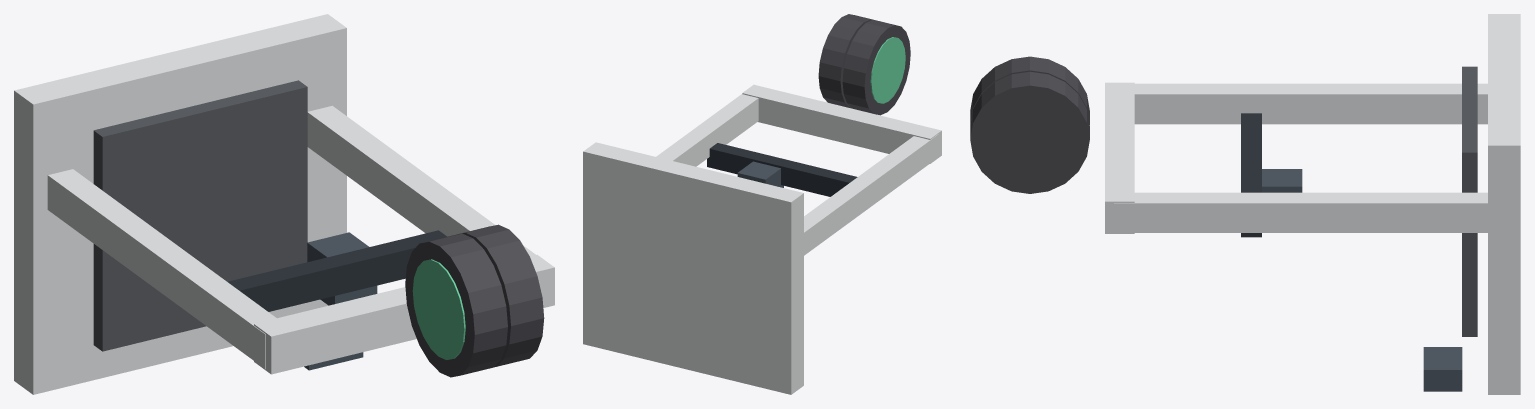
Rendered from printer-a1-style.glb.
3 views of the same model, side by side, from view 1: azimuth 30°, elevation 25°; view 2: azimuth 150°, elevation 25°; view 3: azimuth 270°, elevation 25° (orthographic). The views are drawn at different scales.
Parts seen in each view (by area): view 1: Base, Bed, PillarL, PillarR, TopBar, SpoolFlange1, XRail, SpoolFlange2, SpoolFilament, PrintHead; view 2: Base, TopBar, PillarL, SpoolFlange1, PillarR, XRail, SpoolFlange2, SpoolFilament, PrintHead; view 3: PillarR, PillarL, Base, SpoolFlange2, TopBar, Bed, SpoolFlange1, Screen, XRail, PrintHead.
Part boxes in pixels (x1=…): Base: x1=14, y1=14, x2=346, y2=394; Bed: x1=93, y1=80, x2=307, y2=351; PillarL: x1=47, y1=169, x2=276, y2=369; PillarR: x1=307, y1=105, x2=535, y2=256; TopBar: x1=254, y1=254, x2=554, y2=374; SpoolFlange1: x1=405, y1=233, x2=507, y2=377; XRail: x1=227, y1=230, x2=446, y2=311; SpoolFlange2: x1=457, y1=224, x2=544, y2=367; SpoolFilament: x1=412, y1=259, x2=465, y2=359; PrintHead: x1=307, y1=232, x2=377, y2=305; Base: x1=583, y1=142, x2=803, y2=394; TopBar: x1=742, y1=84, x2=941, y2=163; PillarL: x1=804, y1=134, x2=938, y2=255; SpoolFlange1: x1=842, y1=20, x2=910, y2=115; PillarR: x1=656, y1=94, x2=758, y2=166; XRail: x1=707, y1=143, x2=857, y2=196; SpoolFlange2: x1=818, y1=14, x2=876, y2=108; SpoolFilament: x1=870, y1=37, x2=905, y2=103; PrintHead: x1=737, y1=161, x2=783, y2=187; PillarR: x1=1114, y1=192, x2=1487, y2=232; PillarL: x1=1134, y1=83, x2=1487, y2=124; Base: x1=1488, y1=14, x2=1520, y2=394; SpoolFlange2: x1=970, y1=71, x2=1089, y2=193; TopBar: x1=1105, y1=82, x2=1134, y2=233; Bed: x1=1462, y1=66, x2=1477, y2=336; SpoolFlange1: x1=970, y1=56, x2=1089, y2=124; Screen: x1=1423, y1=347, x2=1462, y2=391; XRail: x1=1241, y1=113, x2=1261, y2=237; PrintHead: x1=1262, y1=169, x2=1302, y2=192.
Size of the model in its own units: 0.52 by 0.5 by 0.92.
